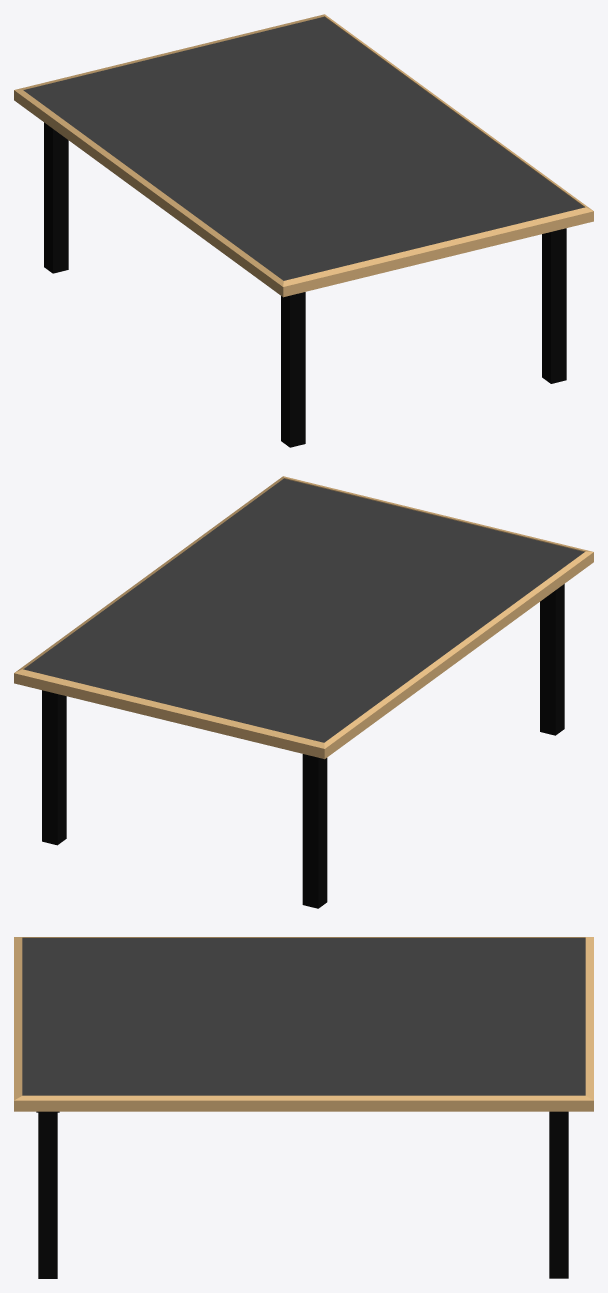
The model's file is table.gltf.
The picture shows the model from 3 angles, top to bottom: view 1: azimuth 30°, elevation 25°; view 2: azimuth 150°, elevation 25°; view 3: azimuth 270°, elevation 25°; orthographic projection. The views are drawn at different scales.
Visible parts, largest first — view 1: leg 1.003; view 2: leg 1.003; view 3: leg 1.003.
Part boxes in pixels (x1,y1,x2,y2): leg 1.003: (14,14,593,447); leg 1.003: (14,476,593,908); leg 1.003: (14,937,593,1278).
Bounding box in the file's own units: 3.97 × 2.14 × 5.96.
